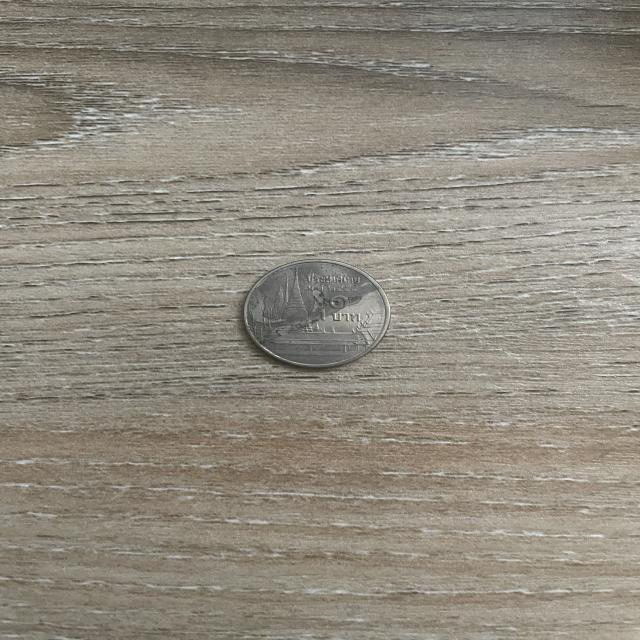1 Bath: (230, 255, 395, 375)
